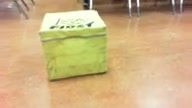cube: (38, 10, 107, 81)
